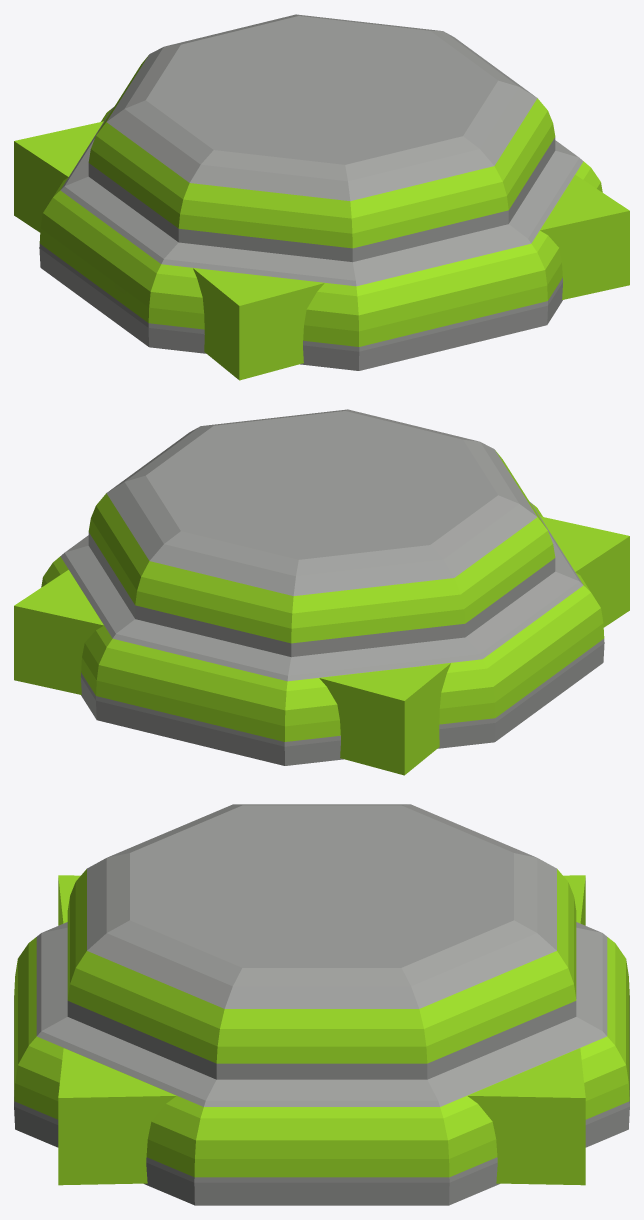
File: base_upgraded.fbx
3 views of the same model, one above another, from view 1: azimuth 30°, elevation 25°; view 2: azimuth 150°, elevation 25°; view 3: azimuth 270°, elevation 25° (orthographic). The views are drawn at different scales.
Parts seen in each view (by area): view 1: Circle; view 2: Circle; view 3: Circle.
Boxes of the visible parts, x1,y1,x2,y2 form: Circle: (14,14,629,380); Circle: (14,409,629,775); Circle: (14,804,629,1205).
Size of the model in its own units: 185 by 62.87 by 185.
1 material, 1 textured.
